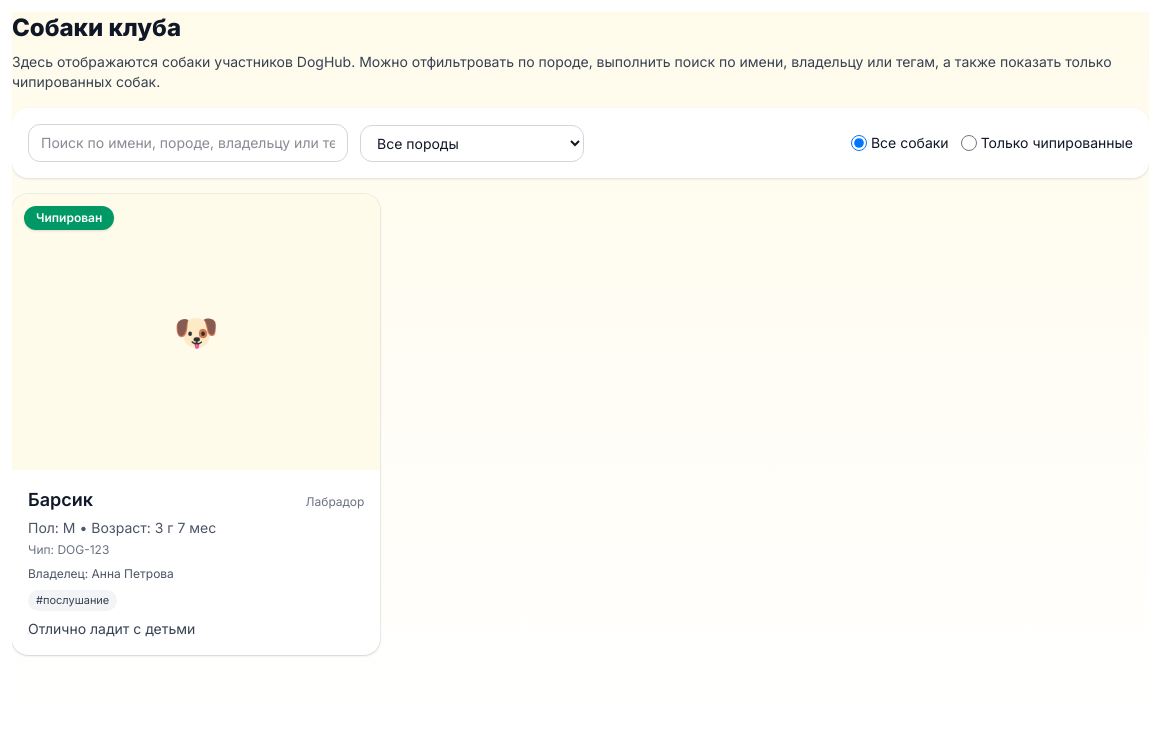
Test: Dogs page › switches to chipped-only mode
The width and height of the screenshot is (1164, 732).
Expected: the heading "Барсик" is shown, [28, 486, 93, 514]
Click the radio button labelled "Только чипированные": click(969, 143) [961, 135, 977, 151]
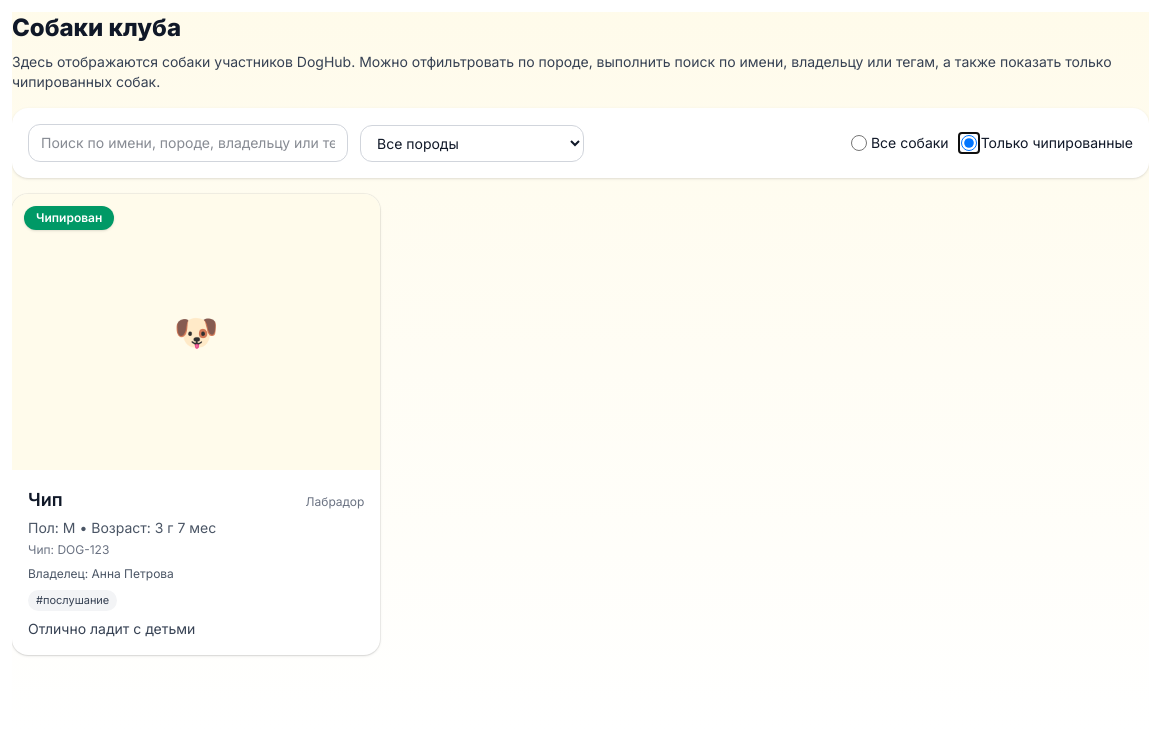
Expected: the heading "Чип" is shown, [28, 486, 63, 514]
Expected: the heading "Барсик" is gone
